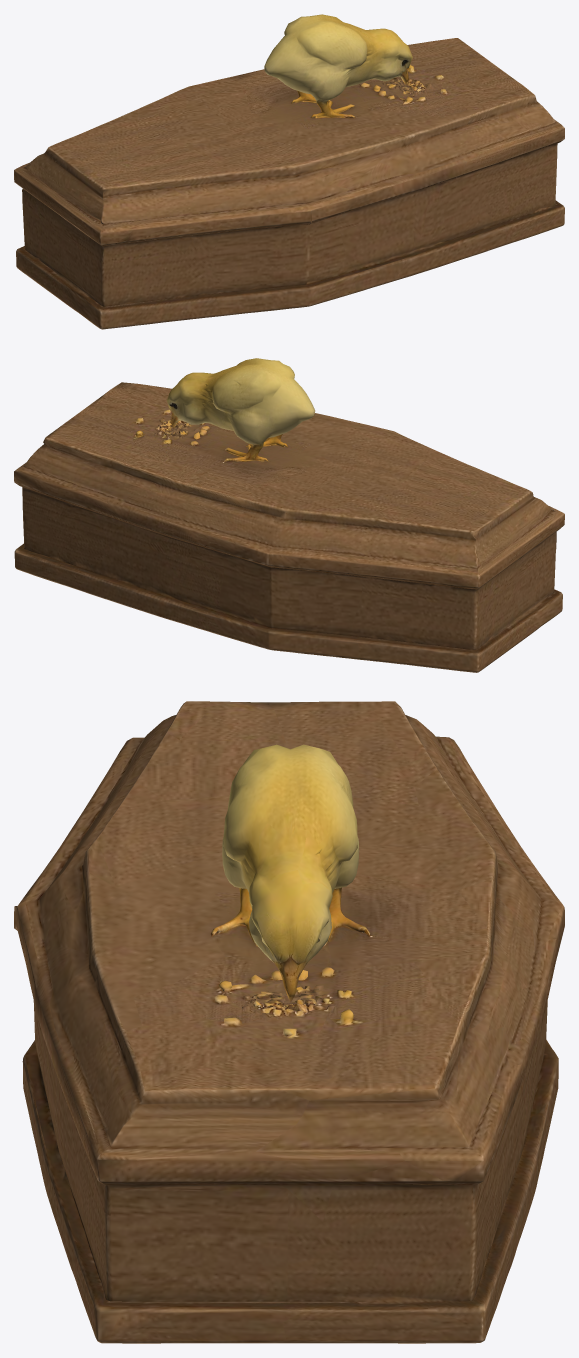
The model's file is Sisiw-512(10k).glb.
3 renders of one model, top to bottom at view 1: azimuth 30°, elevation 25°; view 2: azimuth 150°, elevation 25°; view 3: azimuth 270°, elevation 25°, orthographic. The views are drawn at different scales.
Parts seen in each view (by area): view 1: tripo_node_89327bf8-e368-4464-ac05-5b573e3b9d6c; view 2: tripo_node_89327bf8-e368-4464-ac05-5b573e3b9d6c; view 3: tripo_node_89327bf8-e368-4464-ac05-5b573e3b9d6c.
Part boxes in pixels (bbox=[...]): tripo_node_89327bf8-e368-4464-ac05-5b573e3b9d6c: bbox=[14, 14, 564, 329]; tripo_node_89327bf8-e368-4464-ac05-5b573e3b9d6c: bbox=[14, 358, 564, 672]; tripo_node_89327bf8-e368-4464-ac05-5b573e3b9d6c: bbox=[14, 701, 564, 1343].
Size of the model in its own units: 0.9797 by 0.444 by 0.5415.
1 material, 1 textured.
